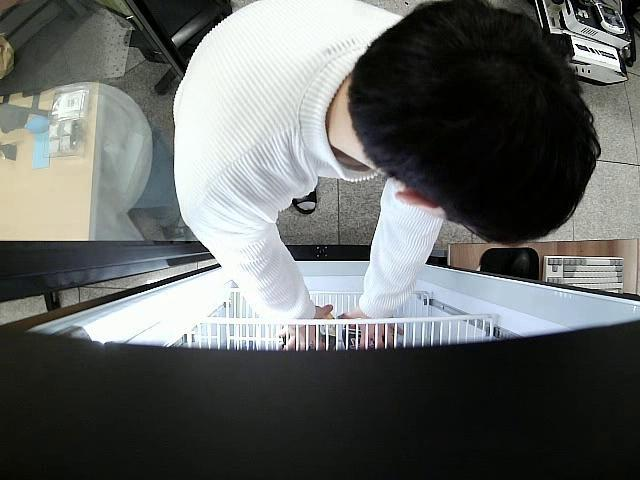07_buldak_L: (286, 316, 337, 350), (342, 322, 373, 350)
